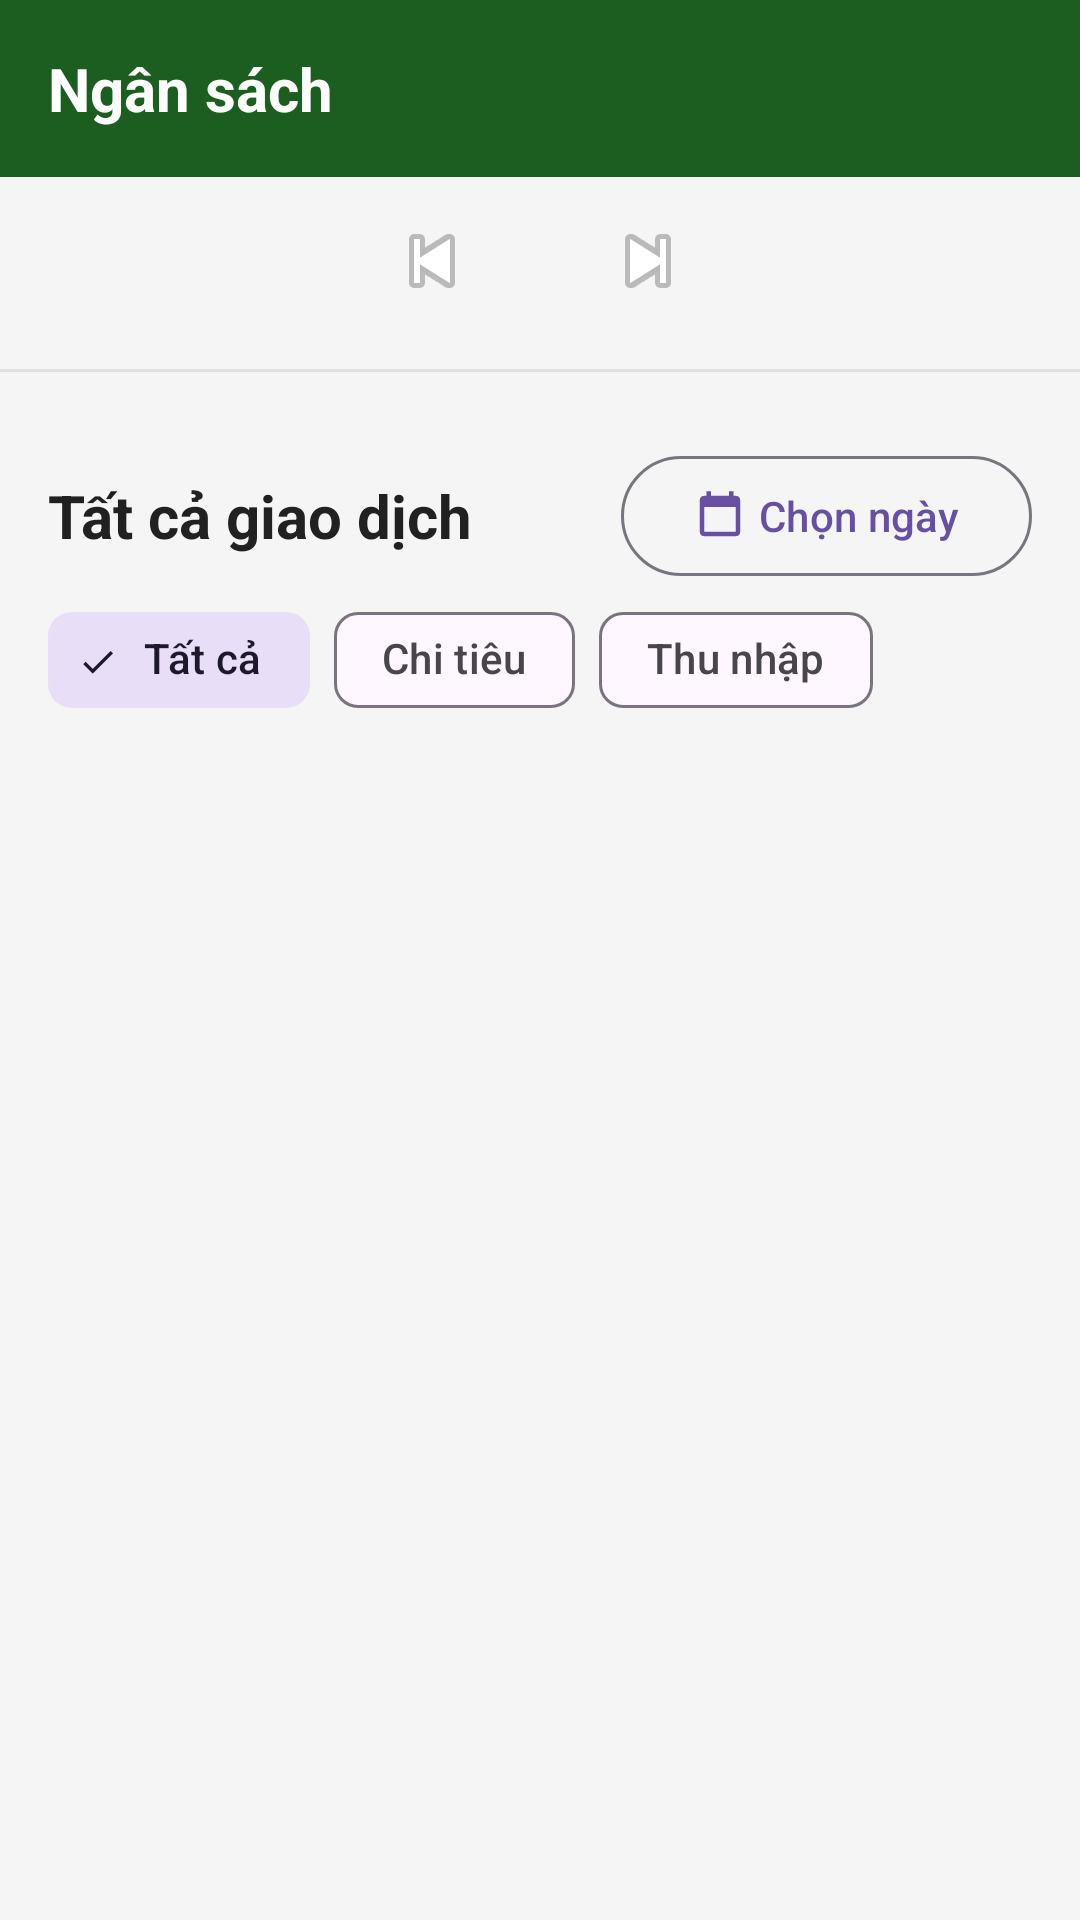

Where to tap for icons on this 1080w x 1920h app screen, as [x,y]:
next: [648,261]
previous: [432,261]
